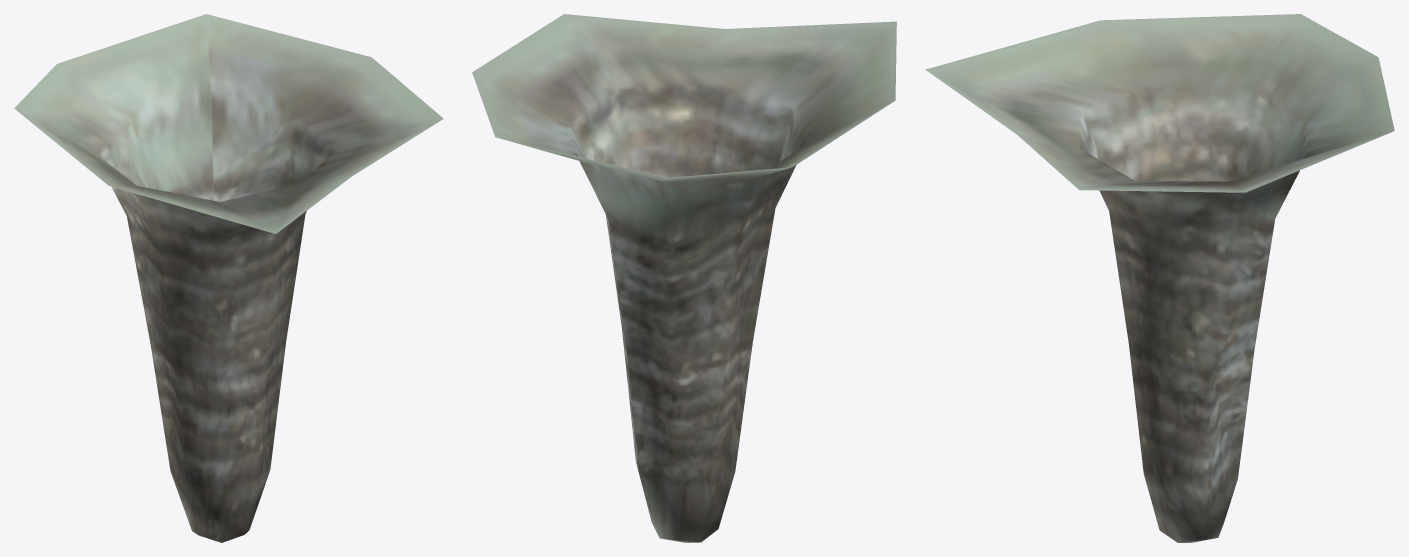
File: TROLLHOLE02_PS-MAINSTALAG75.fbx
3 views of the same model, side by side, from view 1: azimuth 30°, elevation 25°; view 2: azimuth 150°, elevation 25°; view 3: azimuth 270°, elevation 25° (orthographic). The views are drawn at different scales.
Visible parts, largest first — view 1: TROLLHOLE02_PS-MAINSTALAG75; view 2: TROLLHOLE02_PS-MAINSTALAG75; view 3: TROLLHOLE02_PS-MAINSTALAG75.
Part boxes in pixels (left/top/right/bottom): TROLLHOLE02_PS-MAINSTALAG75: left=14, top=14, right=443, bottom=542; TROLLHOLE02_PS-MAINSTALAG75: left=472, top=14, right=896, bottom=542; TROLLHOLE02_PS-MAINSTALAG75: left=925, top=14, right=1394, bottom=542.
Bounding box in the file's own units: 17868 × 22396 × 20984.
Materials: 1 (1 with a texture image).
